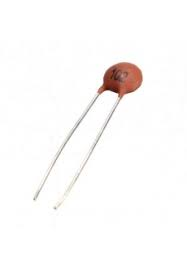ceramic capacitor: (70, 37, 148, 112)
